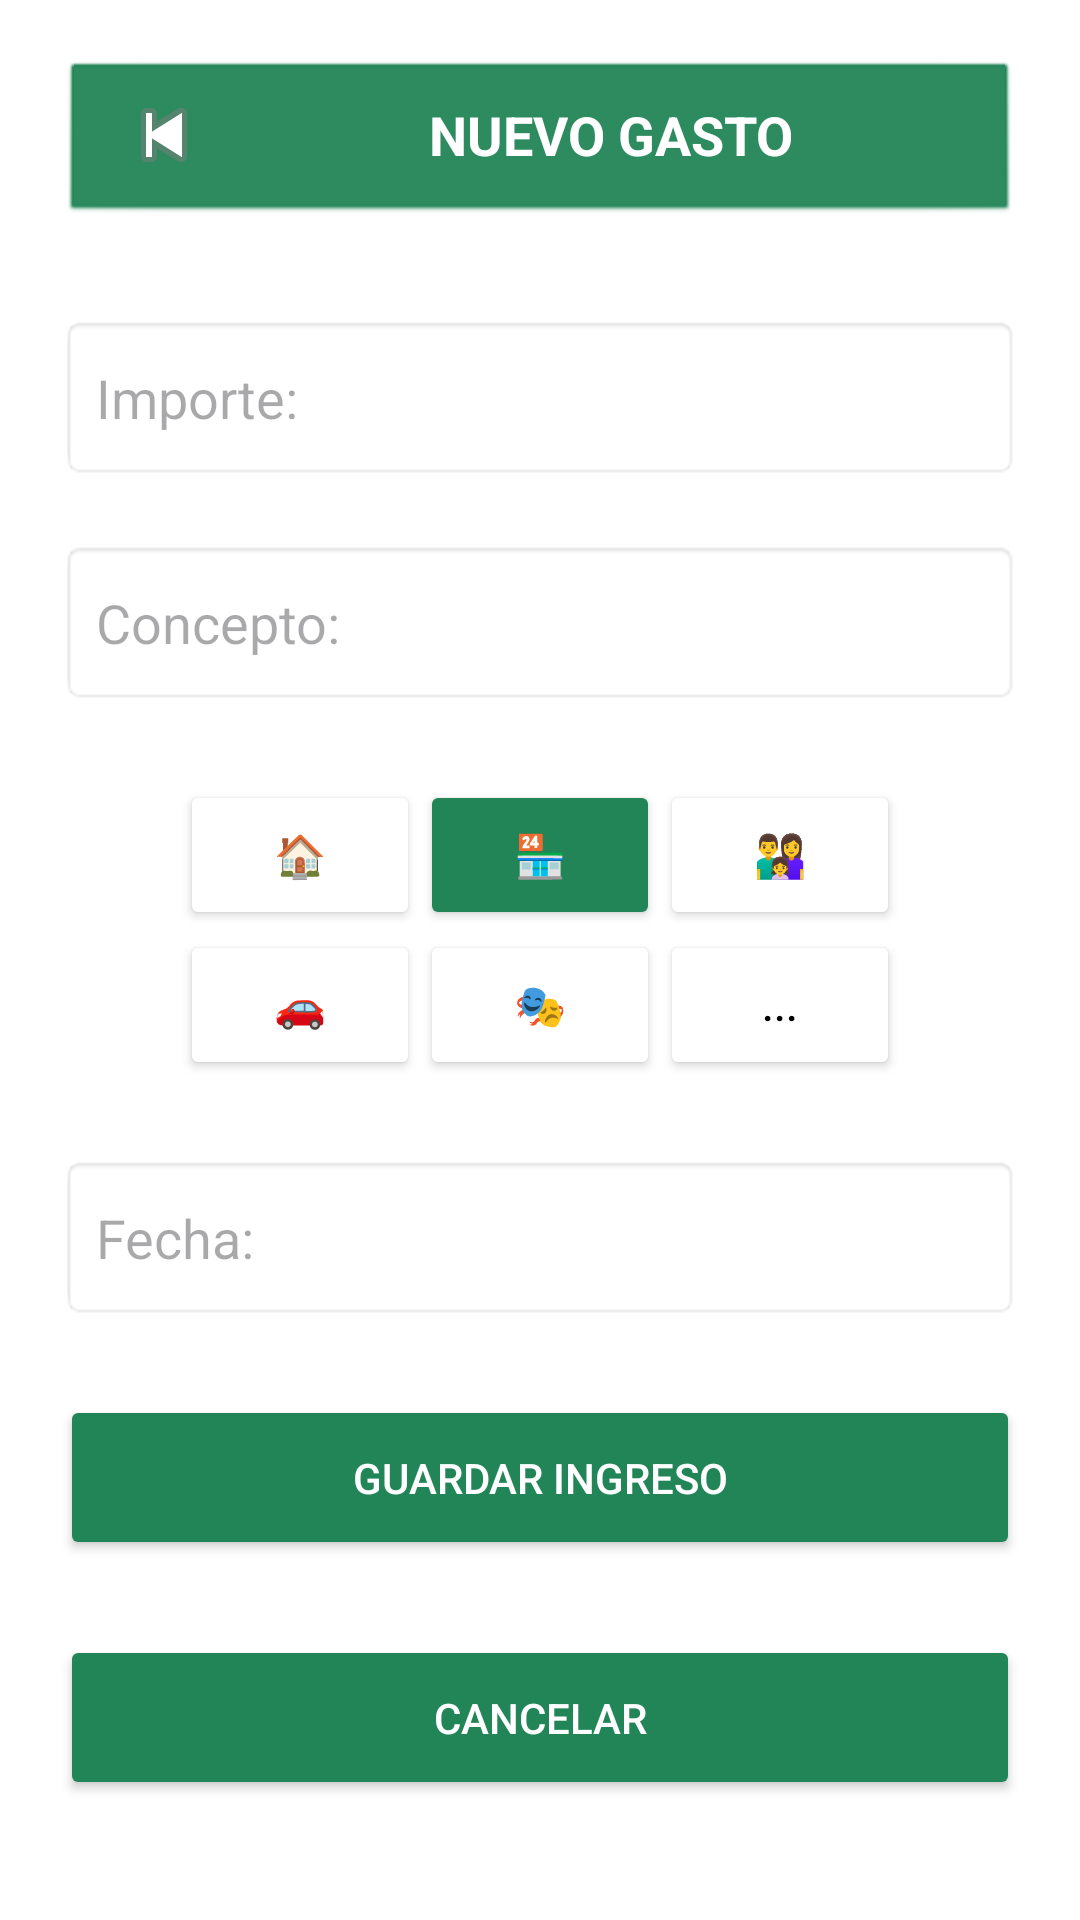

Icons on this 1080 × 1920 Android screen, each with the point to tap as (x=x, y=y):
previous: (x=164, y=135)
